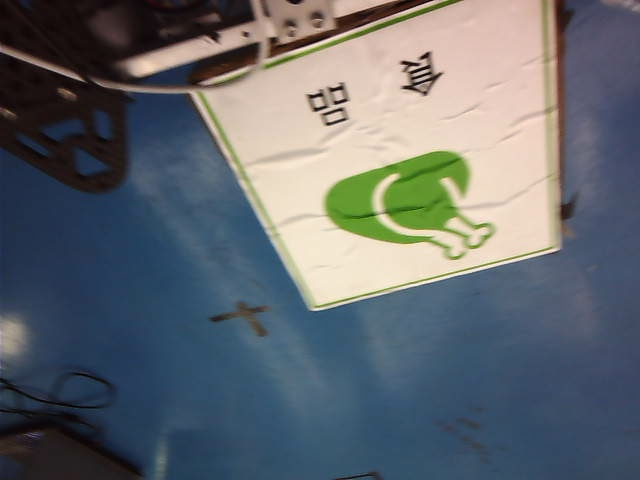Cube_food: (284, 44, 511, 267)
